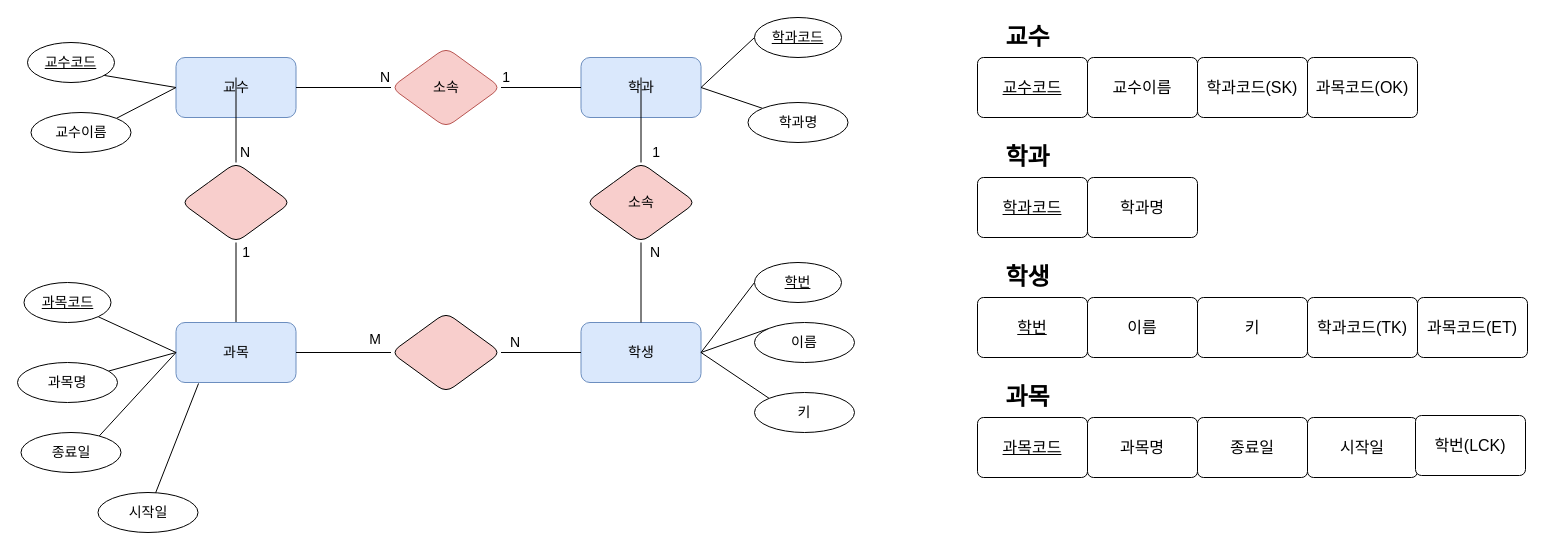
Some shapes in this 1545 by 550 pixel diagram are drawn without their labels. Each missing label, with the centre of its shape:
"강의" goes at [235,202].
"수강" goes at [445,352].
